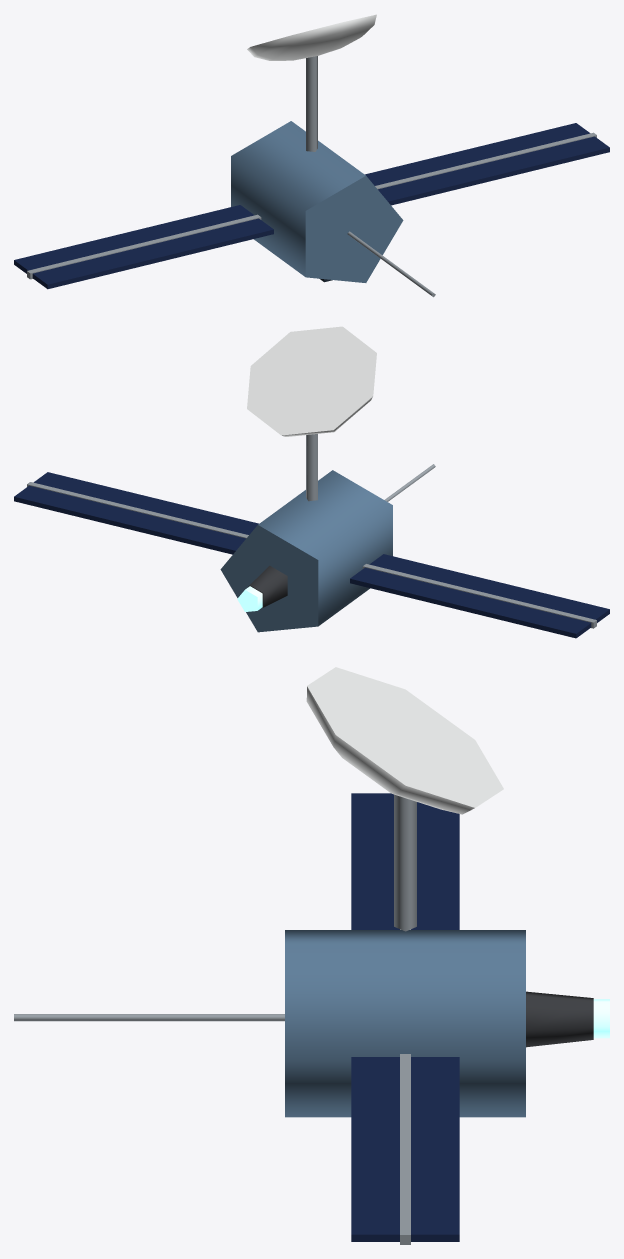
Rendered from space_ship_probe_mk5_lod1.glb.
3 views of the same model, one above another, from view 1: azimuth 30°, elevation 25°; view 2: azimuth 150°, elevation 25°; view 3: azimuth 270°, elevation 25° (orthographic). The views are drawn at different scales.
Visible parts, largest first — view 1: body, solar_0, solar_1, antenna_0; view 2: body, antenna_0, solar_0, solar_1, engine_0; view 3: body, solar_1, antenna_0, solar_0, engine_0.
Part boxes in pixels (box(x1,y1,x2,y2)): body: box(231, 121, 435, 297); solar_0: box(14, 205, 273, 289); solar_1: box(365, 123, 609, 205); antenna_0: box(247, 14, 376, 151); body: box(220, 464, 435, 632); antenna_0: box(247, 326, 376, 501); solar_0: box(350, 554, 609, 638); solar_1: box(14, 472, 258, 554); engine_0: box(237, 565, 287, 611); body: box(14, 930, 525, 1117); solar_1: box(351, 1054, 459, 1244); antenna_0: box(306, 667, 503, 931); solar_0: box(351, 793, 459, 929); engine_0: box(526, 991, 609, 1047).
Bounding box in the file's own units: 7.76 × 3.44 × 4.4.
